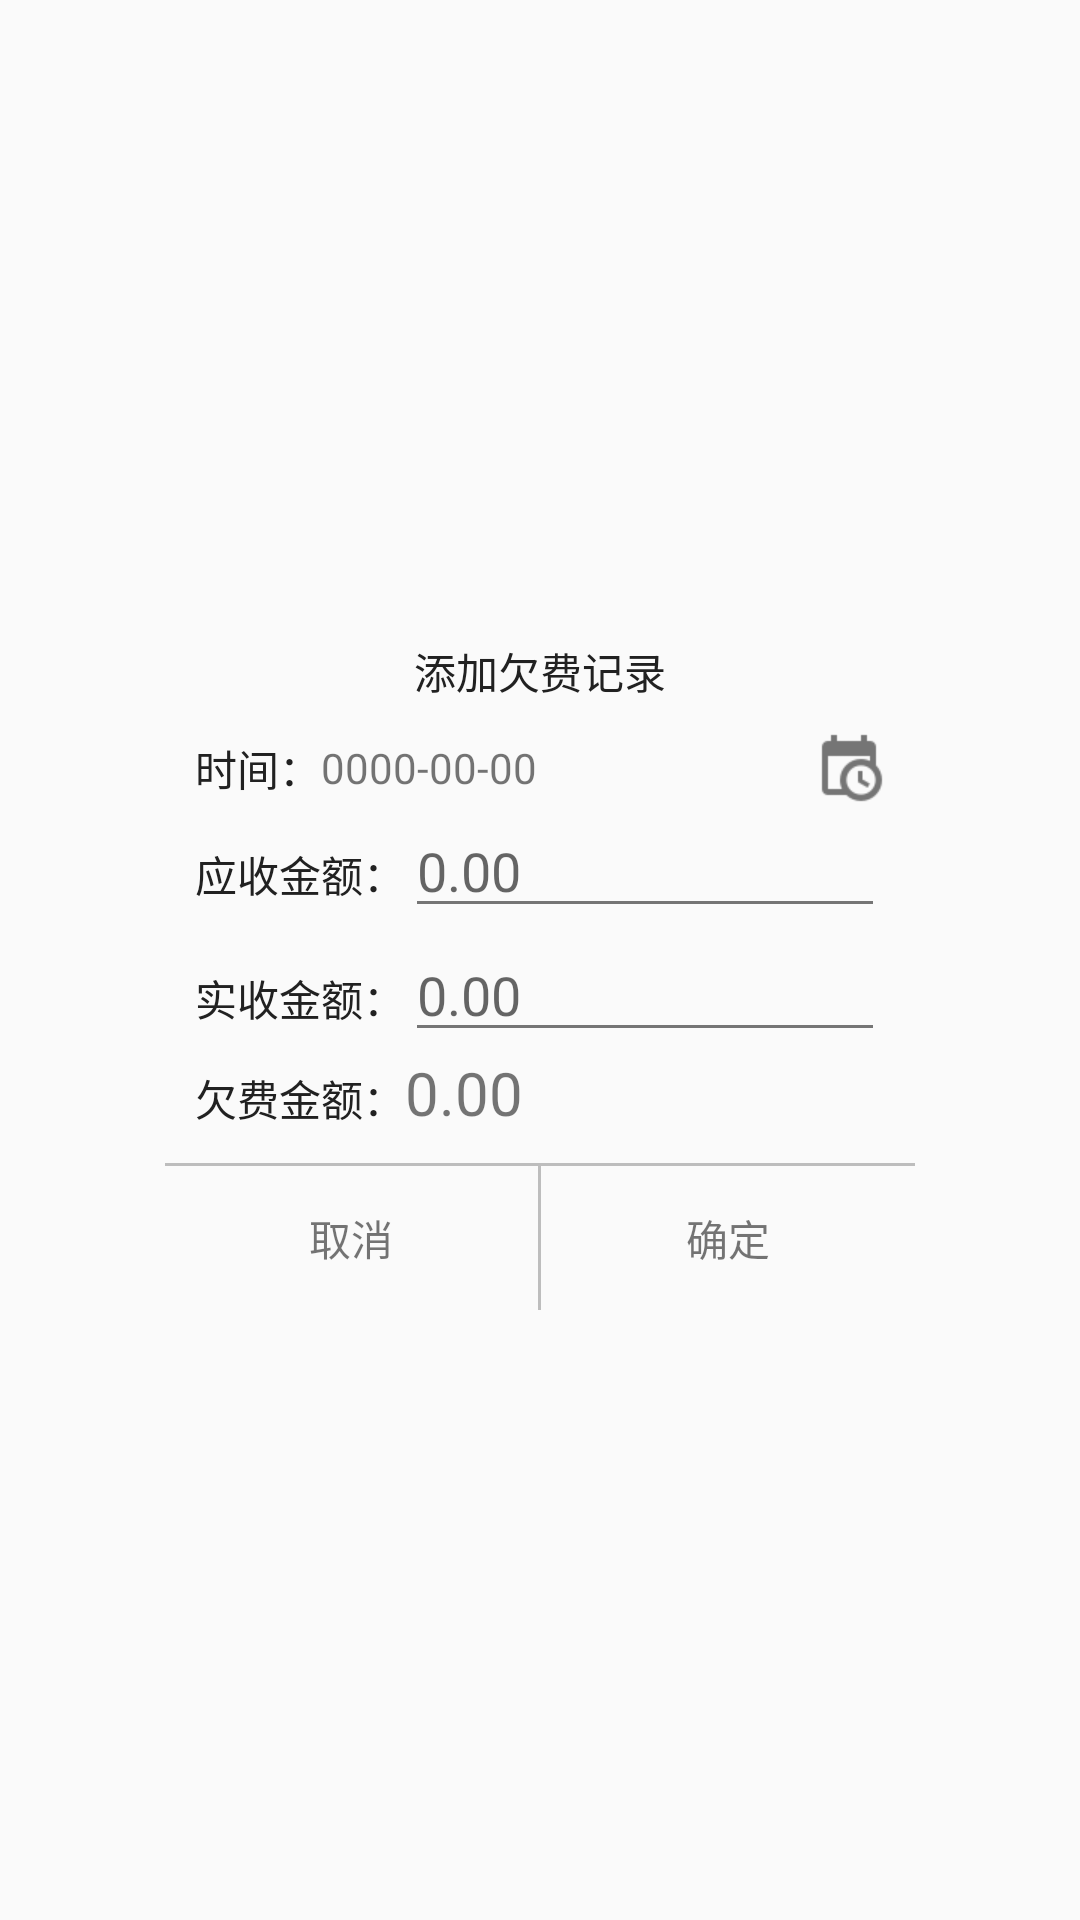

Icon bounding boxes for this 1080*1920 phone screenshot, format (left=x1, top=y1, right=x2, bottom=y2):
calendar clock: (left=822, top=735, right=882, bottom=801)
